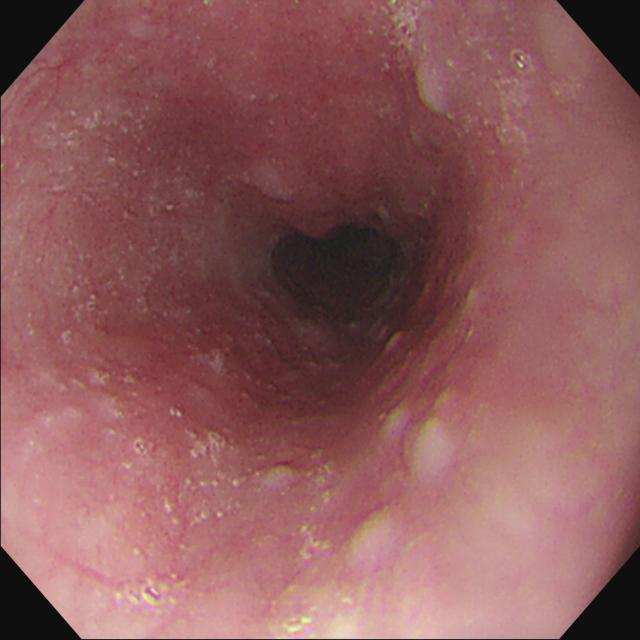E: (273, 224, 401, 311)
J: (410, 64, 454, 124), (348, 500, 391, 560), (403, 415, 446, 475)
